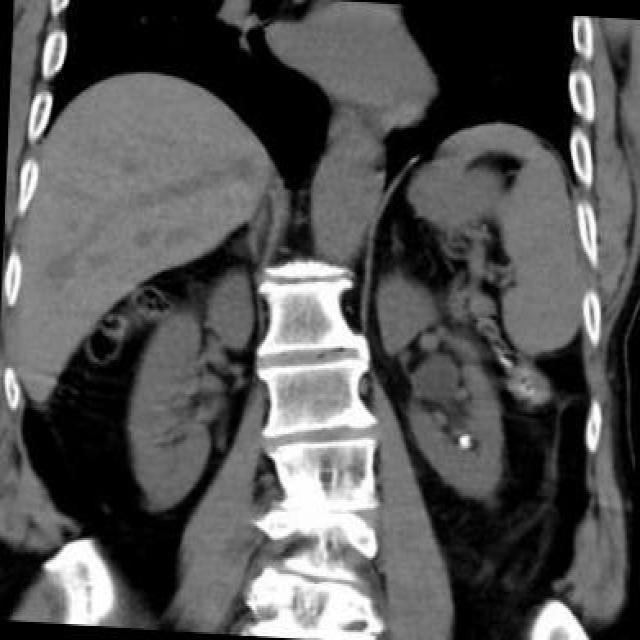Tas_Var: (448, 426, 479, 456)
